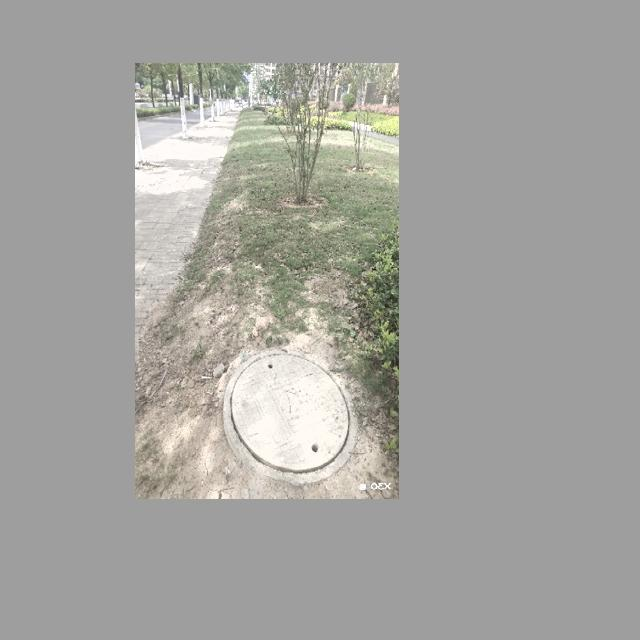good: (224, 346, 358, 487)
